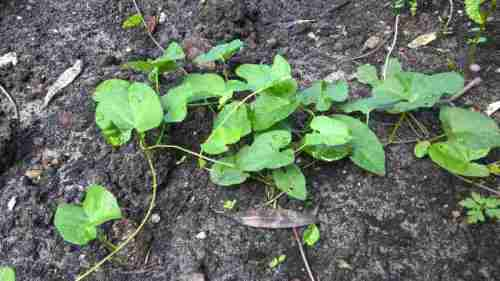haagwinde: (69, 37, 500, 196)
